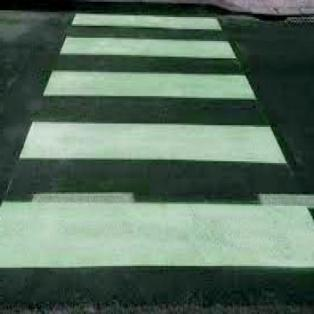Paso de Cebra: (2, 117, 314, 285), (57, 11, 240, 60)
